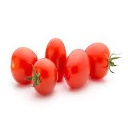tomato: (11, 47, 37, 87), (83, 43, 111, 78), (66, 48, 91, 87), (32, 59, 58, 94), (47, 38, 67, 80)
